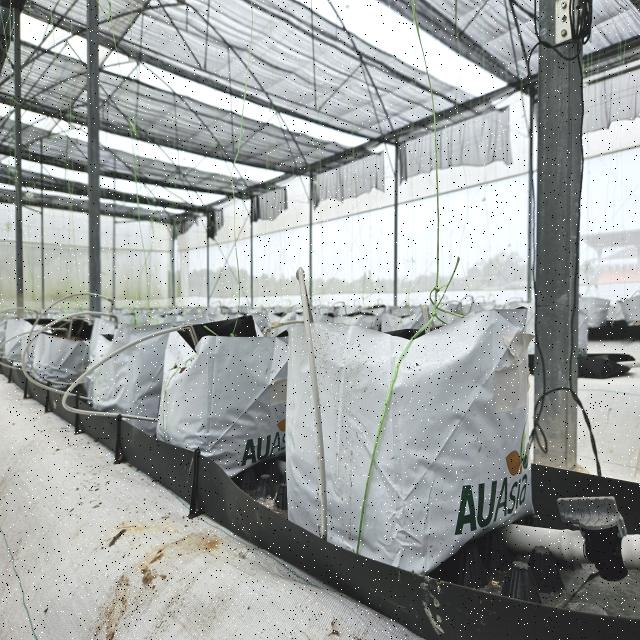Soilbag: (285, 309, 538, 579)
